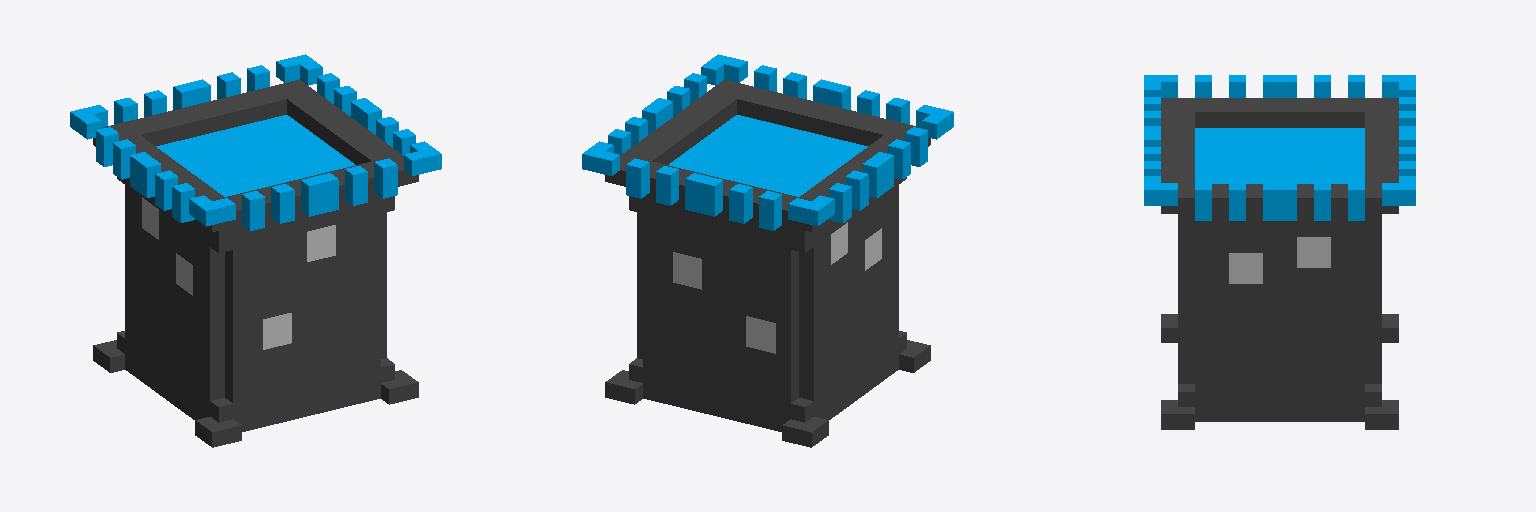
The picture shows the model from 3 angles: view 1: azimuth 30°, elevation 25°; view 2: azimuth 150°, elevation 25°; view 3: azimuth 270°, elevation 25°; orthographic projection.
Parts seen in each view (by area): view 1: Model; view 2: Model; view 3: Model.
Part boxes in pixels (bbox=[...]): Model: bbox=[70, 54, 441, 447]; Model: bbox=[582, 54, 953, 447]; Model: bbox=[1144, 75, 1415, 429].
Bounding box in the file's own units: 32 × 32 × 32.
Materials: 1 (1 with a texture image).